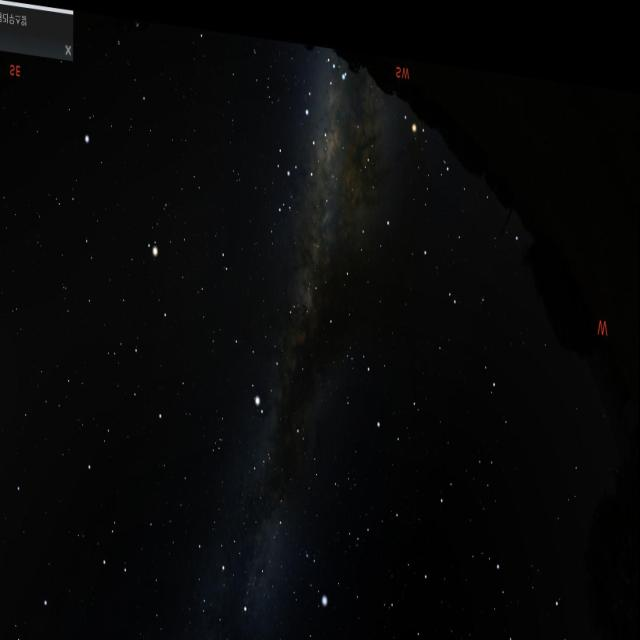aquila: (233, 274, 310, 410)
cygnus: (218, 473, 290, 640)
lyra: (296, 525, 334, 612)
sagittarius: (276, 62, 340, 208)
